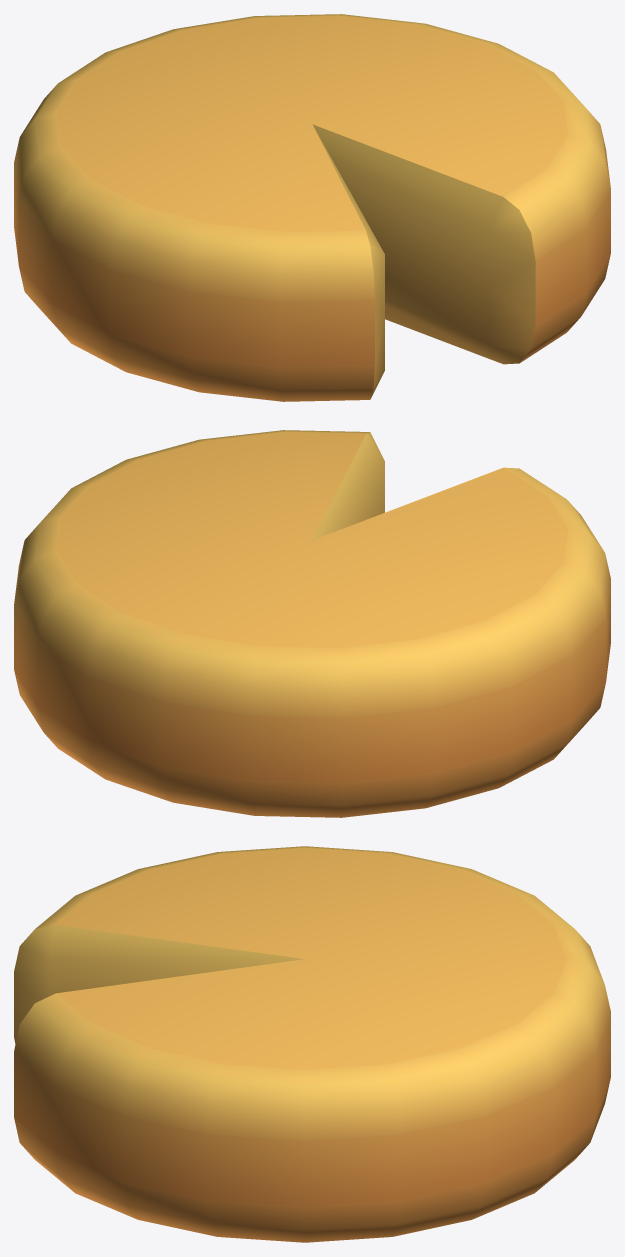
The model's file is prop_cheese.glb.
The picture shows the model from 3 angles, top to bottom: view 1: azimuth 30°, elevation 25°; view 2: azimuth 150°, elevation 25°; view 3: azimuth 270°, elevation 25°; orthographic projection.
Visible parts, largest first — view 1: Food_Cheese; view 2: Food_Cheese; view 3: Food_Cheese.
Part boxes in pixels (x1=…): Food_Cheese: x1=14, y1=14, x2=610, y2=401; Food_Cheese: x1=14, y1=430, x2=610, y2=817; Food_Cheese: x1=14, y1=846, x2=610, y2=1242.
Bounding box in the file's own units: 0.9083 × 0.2795 × 0.886.
Materials: 1 (1 with a texture image).
